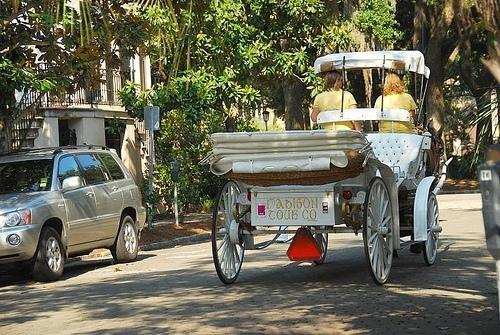car: (5, 149, 147, 279)
truck: (0, 144, 145, 279)
